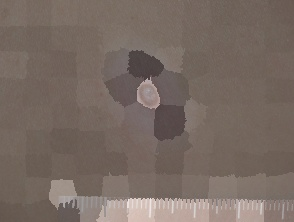vitiligo: (82, 22, 216, 176)
